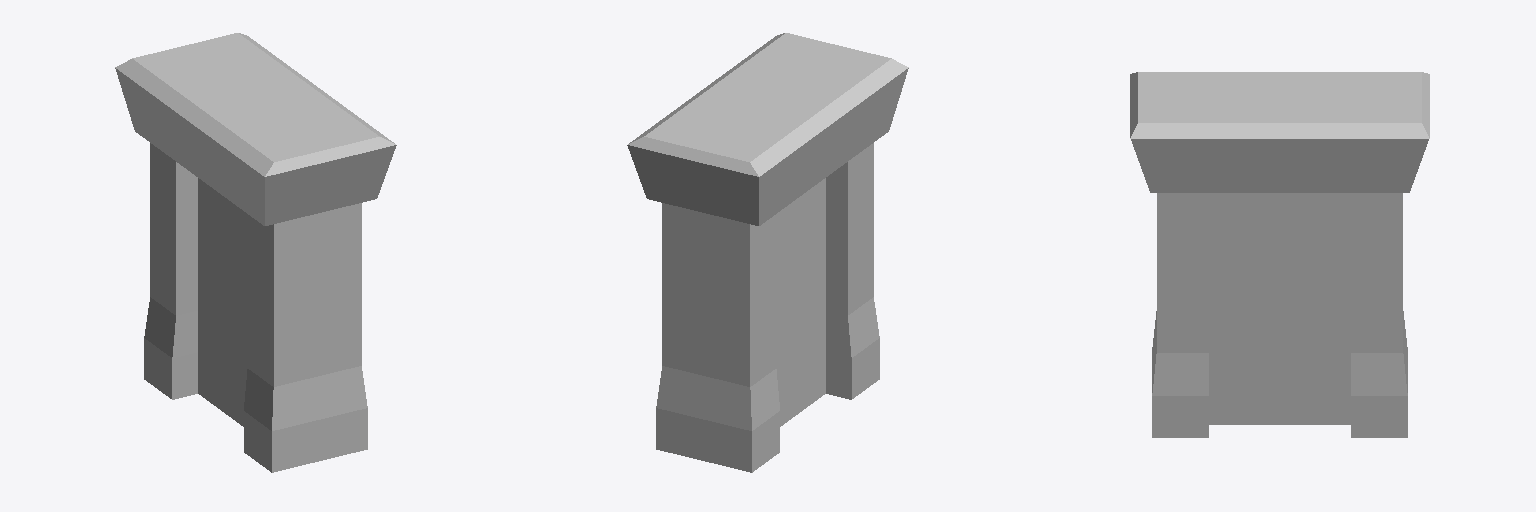
The model's file is Door.obj.
3 views of the same model, side by side, from view 1: azimuth 30°, elevation 25°; view 2: azimuth 150°, elevation 25°; view 3: azimuth 270°, elevation 25° (orthographic).
Visible parts, largest first — view 1: DoorFrame, Cube_Door; view 2: DoorFrame, Cube_Door; view 3: DoorFrame, Cube_Door.
Boxes of the visible parts, x1=… form: DoorFrame: x1=115, y1=33, x2=396, y2=472; Cube_Door: x1=198, y1=178, x2=247, y2=426; DoorFrame: x1=627, y1=33, x2=908, y2=472; Cube_Door: x1=776, y1=178, x2=825, y2=426; DoorFrame: x1=1130, y1=72, x2=1429, y2=437; Cube_Door: x1=1209, y1=193, x2=1350, y2=424.
Bounding box in the file's own units: 4.7 × 10.77 × 9.21.